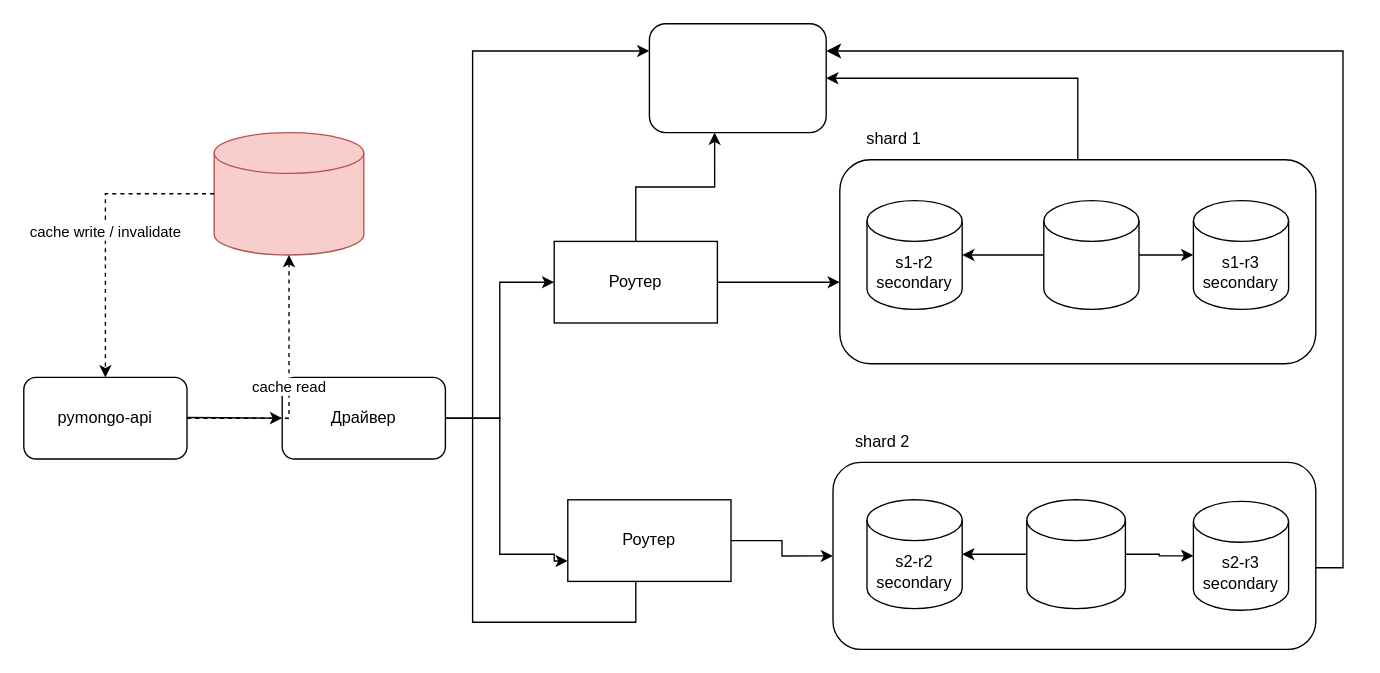
This 1380x673 diagram has some shape labels left out. Here are the shapes that lost their labels. From the top down, the centre of each, then its label:
At point (737, 77): "Конфигурационный сервер".
At point (288, 193): "Redis Cache".
At point (1090, 254): "s1-r1 primary".
At point (1075, 553): "s2-r1 primary".
